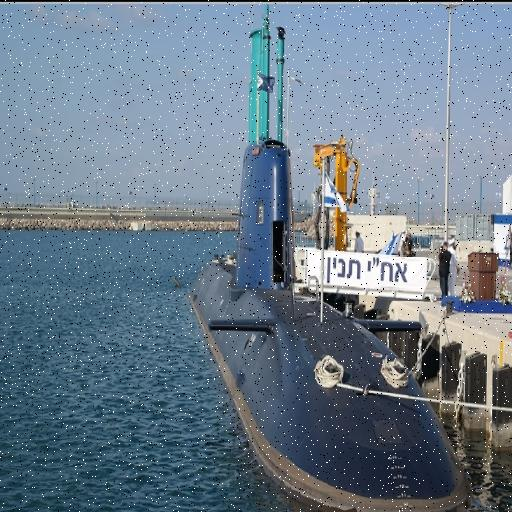submarine: (188, 140, 484, 512)
